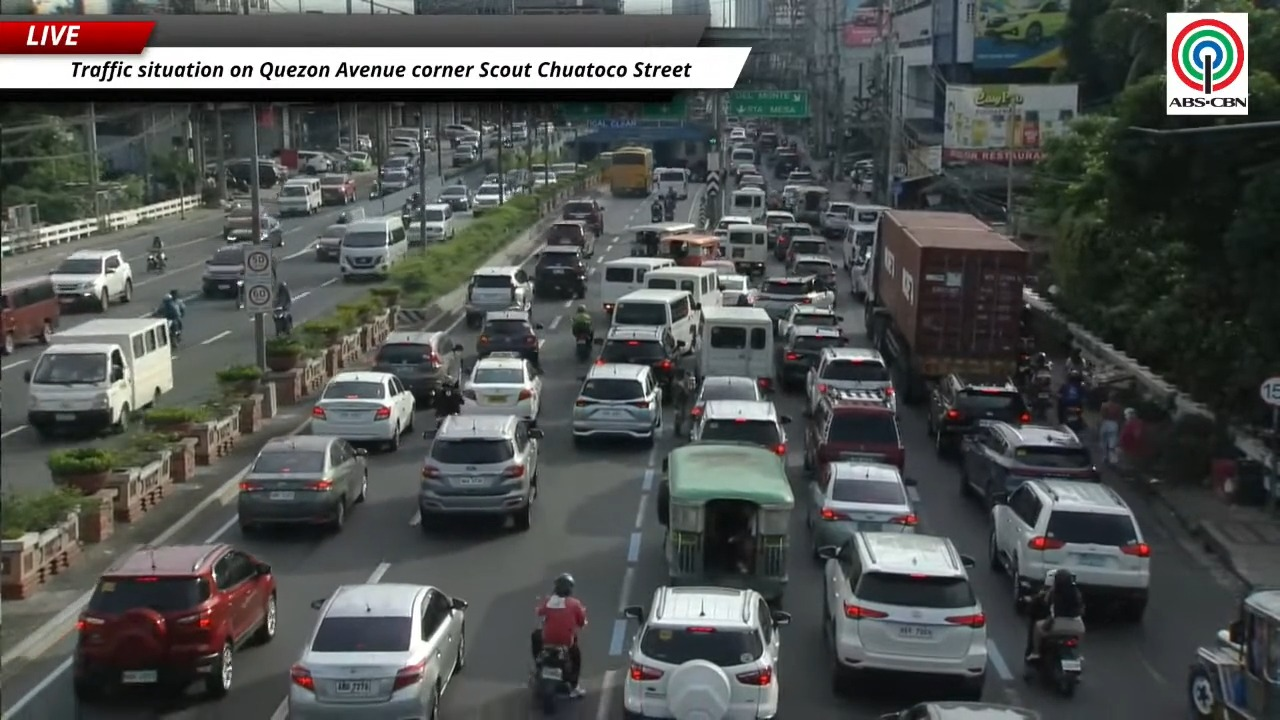bus: (609, 147, 653, 196)
car: (72, 544, 276, 702), (819, 532, 987, 700), (287, 583, 467, 719), (989, 480, 1150, 622), (622, 586, 789, 719), (418, 415, 542, 532), (237, 435, 367, 534), (960, 421, 1100, 506), (806, 460, 917, 555), (927, 373, 1031, 454), (804, 390, 905, 472), (311, 370, 414, 450), (572, 363, 662, 443), (373, 331, 464, 407), (805, 346, 895, 410), (461, 355, 542, 426), (690, 400, 790, 456), (596, 326, 682, 391), (49, 249, 133, 311), (0, 277, 60, 355), (775, 325, 847, 388), (465, 266, 532, 328), (981, 0, 1066, 46), (476, 309, 542, 364), (754, 277, 834, 320), (689, 376, 763, 420), (881, 700, 1041, 719), (533, 245, 586, 298), (201, 244, 245, 297), (776, 304, 842, 337), (407, 204, 456, 245), (225, 215, 283, 247), (788, 254, 837, 287), (773, 222, 812, 260), (783, 235, 826, 267), (562, 198, 603, 231), (471, 183, 509, 216), (821, 201, 853, 239), (315, 224, 347, 261), (718, 274, 755, 306), (320, 173, 355, 204), (437, 184, 471, 211), (379, 169, 411, 194), (380, 155, 414, 177), (302, 152, 334, 174), (451, 143, 478, 167), (345, 151, 373, 172), (786, 170, 815, 185), (738, 173, 765, 188), (532, 172, 558, 187)
motorcycle: (1024, 634, 1082, 697), (530, 645, 570, 715), (1030, 389, 1054, 423), (1062, 405, 1084, 433), (273, 308, 292, 336), (146, 250, 167, 273), (575, 332, 591, 361), (168, 320, 181, 347), (236, 279, 244, 309), (651, 205, 662, 222), (664, 208, 675, 222)
truck: (864, 210, 1029, 402), (24, 317, 174, 437)
